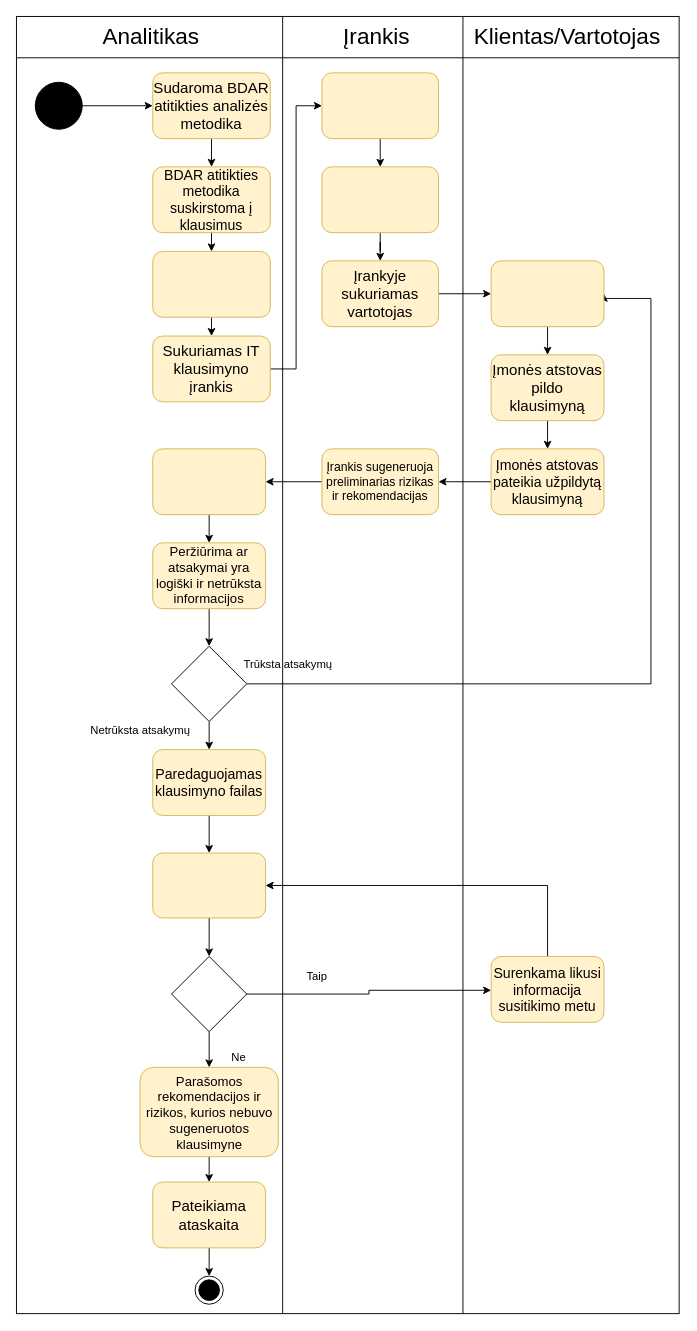
Image size: 697x1331. Some labels were removed from this diagram. Here are the shapes that lost their labels. From the top down, the centre of each, then its label:
(380,105): Klausimai patalpinami į sukurtą įrankį
(380,199): Įrankyje sudaromas klausimynas
(211,284): Sudaromas IT klausimynas
(547,293): Įmonės atstovas prisijungia prie įrankio
(209,481): Atsisiunčiamas klausimyno failas
(209,885): Ar trūksta informacijos, kurios klausimyne negalima užpildyti ?
